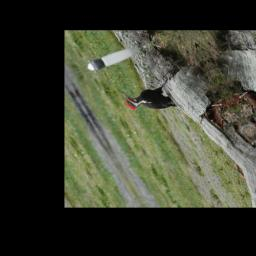Woodpecker: (117, 76, 180, 123)
